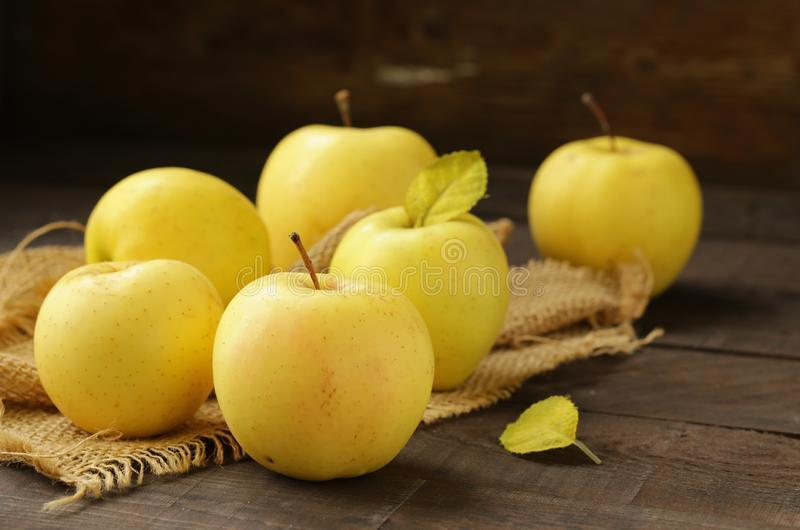apple: (211, 271, 435, 476), (34, 257, 223, 437), (328, 206, 510, 389), (519, 125, 699, 302), (254, 121, 437, 278), (83, 166, 274, 312)
